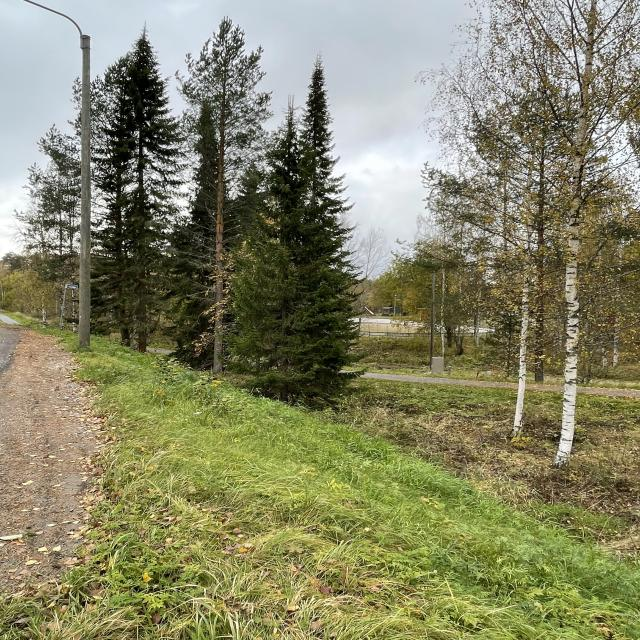spruce: (286, 51, 389, 432), (260, 99, 364, 428), (95, 21, 181, 375), (228, 206, 330, 414), (190, 78, 248, 404)
